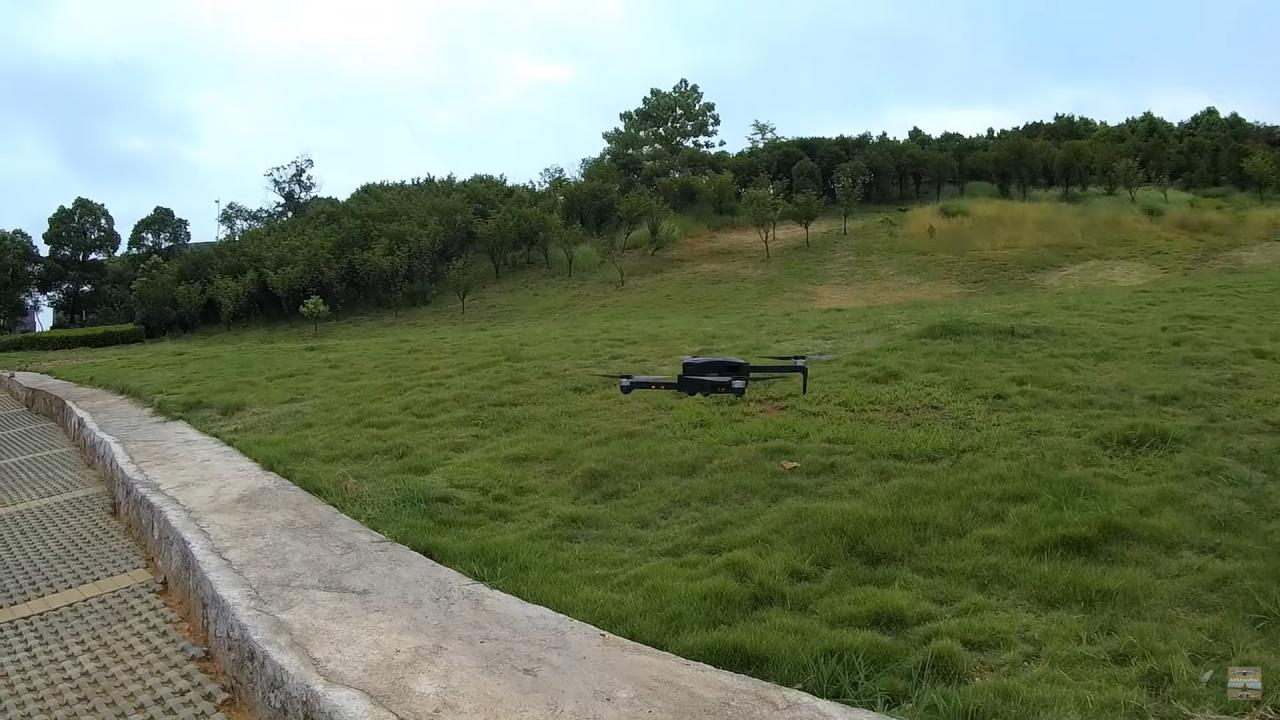Drone: (568, 341, 824, 413)
